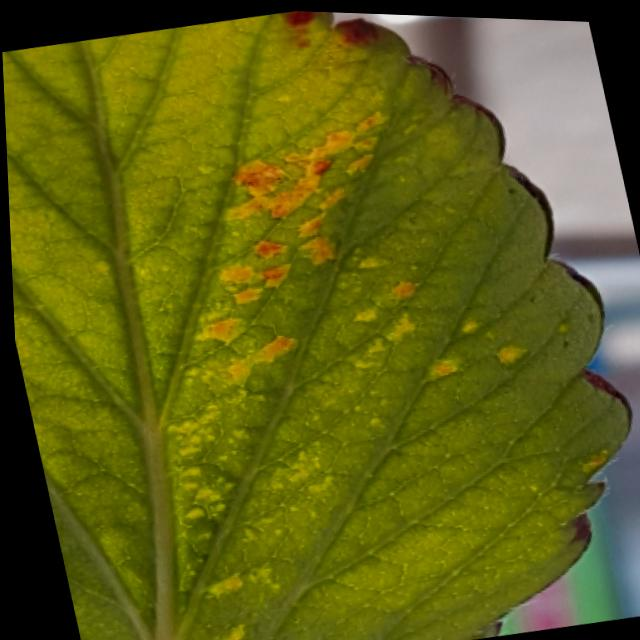Angular Leafspot: (139, 64, 535, 640)
